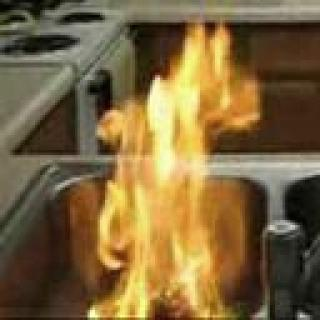fire: (92, 21, 258, 320)
